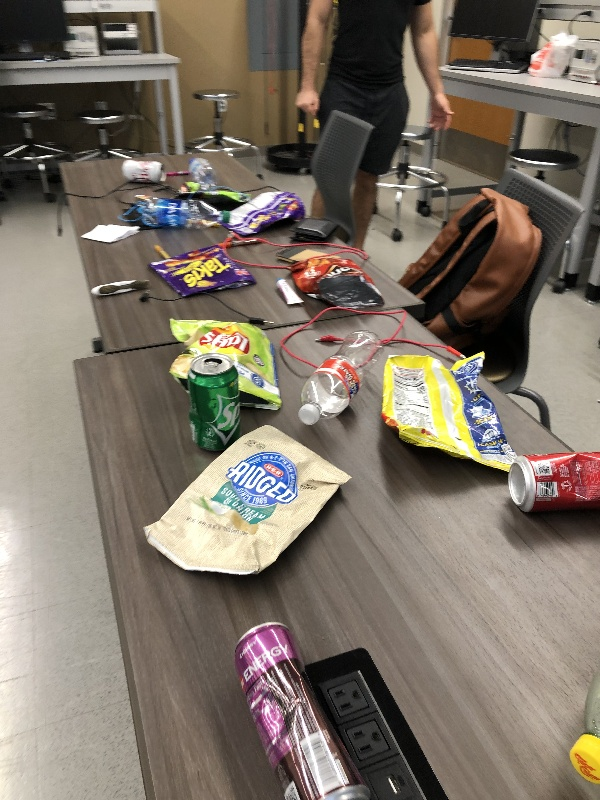bag: (134, 423, 354, 582), (374, 345, 529, 478), (162, 311, 290, 417), (282, 254, 390, 318), (141, 244, 260, 298), (220, 187, 313, 242), (180, 180, 252, 204)
bottle: (294, 327, 384, 437), (563, 640, 600, 793), (136, 195, 234, 234), (189, 152, 222, 191)
can: (231, 620, 369, 783), (505, 444, 600, 513), (188, 351, 245, 455), (120, 155, 168, 187)
